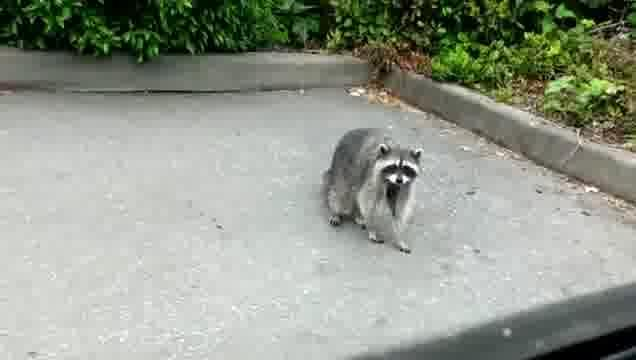raccoon: (323, 127, 425, 255)
